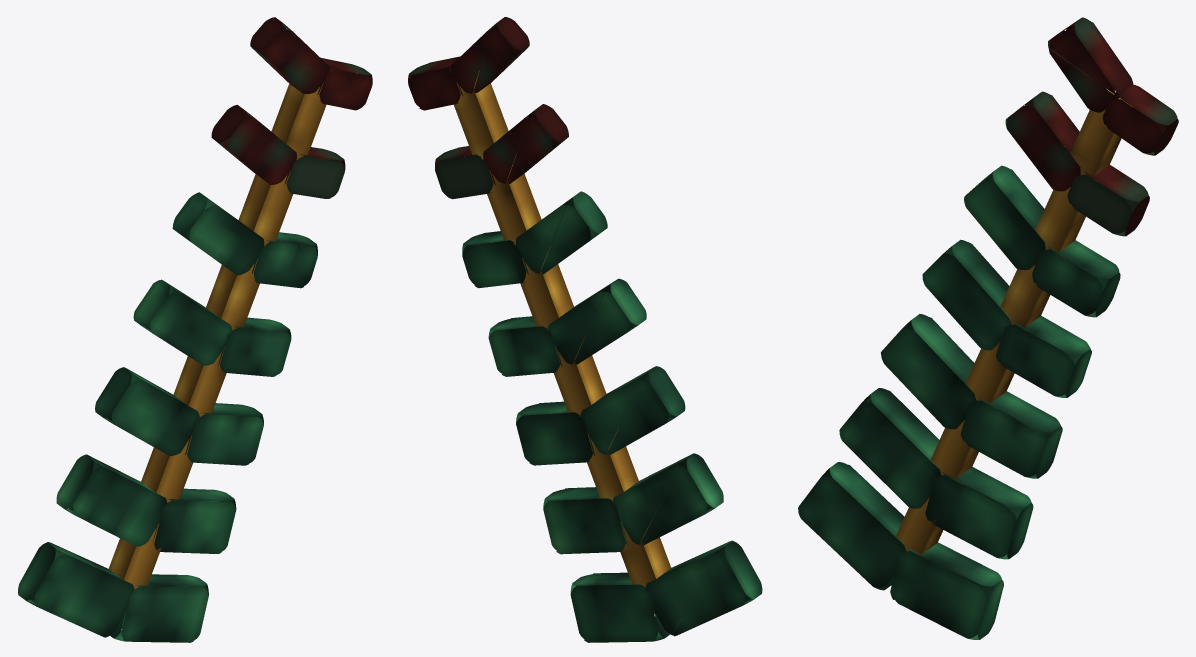
Rendered from champions_plume.obj.
3 views of the same model, side by side, from view 1: azimuth 30°, elevation 25°; view 2: azimuth 150°, elevation 25°; view 3: azimuth 330°, elevation 25° (orthographic). The views are drawn at different scales.
Parts seen in each view (by area): view 1: lit; view 2: lit; view 3: lit.
Part boxes in pixels (left/top/right/bottom): lit: left=18, top=17, right=372, bottom=642; lit: left=408, top=17, right=762, bottom=642; lit: left=798, top=17, right=1178, bottom=639.
Size of the model in its own units: 0.658 by 1.08 by 0.0596.
